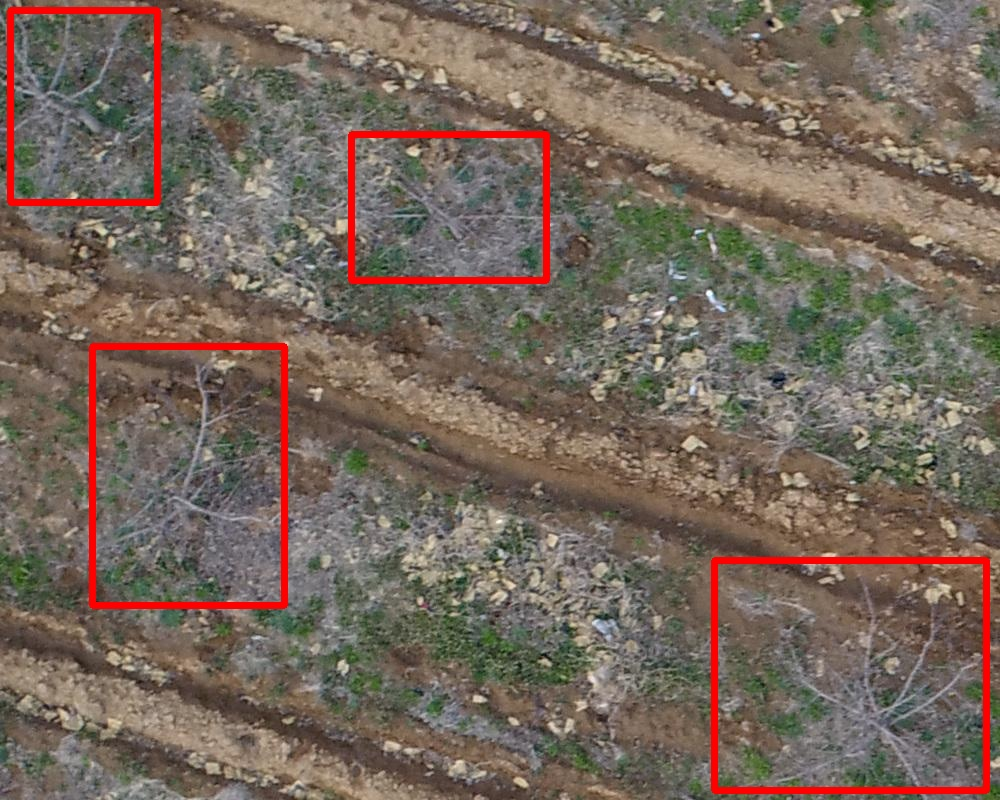apple: (714, 560, 986, 790), (92, 346, 284, 605), (351, 134, 546, 280), (10, 10, 157, 202)
